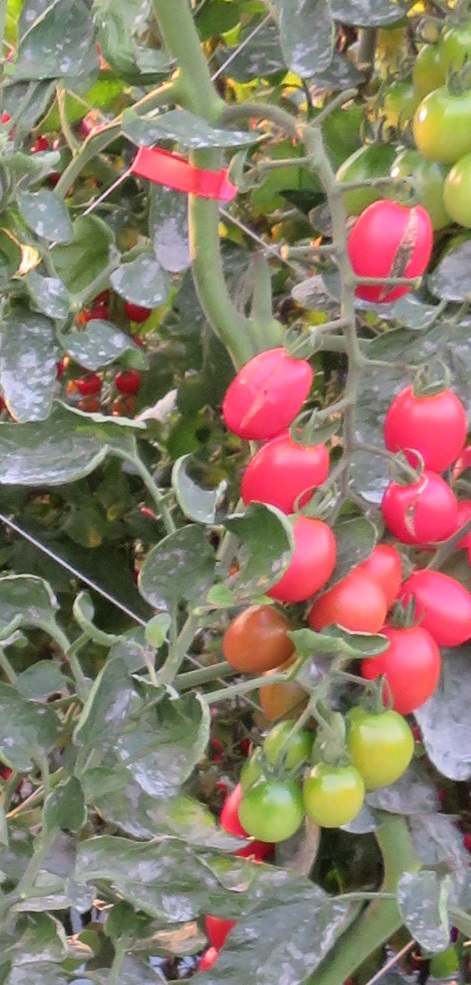green: (350, 710, 420, 800), (236, 775, 306, 843), (303, 759, 365, 827), (405, 98, 471, 159), (263, 716, 313, 782), (407, 41, 455, 91), (443, 151, 471, 235)
orange: (222, 593, 293, 672)
red: (348, 197, 434, 306), (381, 365, 471, 468), (221, 346, 314, 440), (242, 424, 330, 515), (365, 624, 445, 714), (383, 462, 464, 546), (261, 519, 337, 604), (401, 568, 471, 646), (309, 581, 387, 633)
